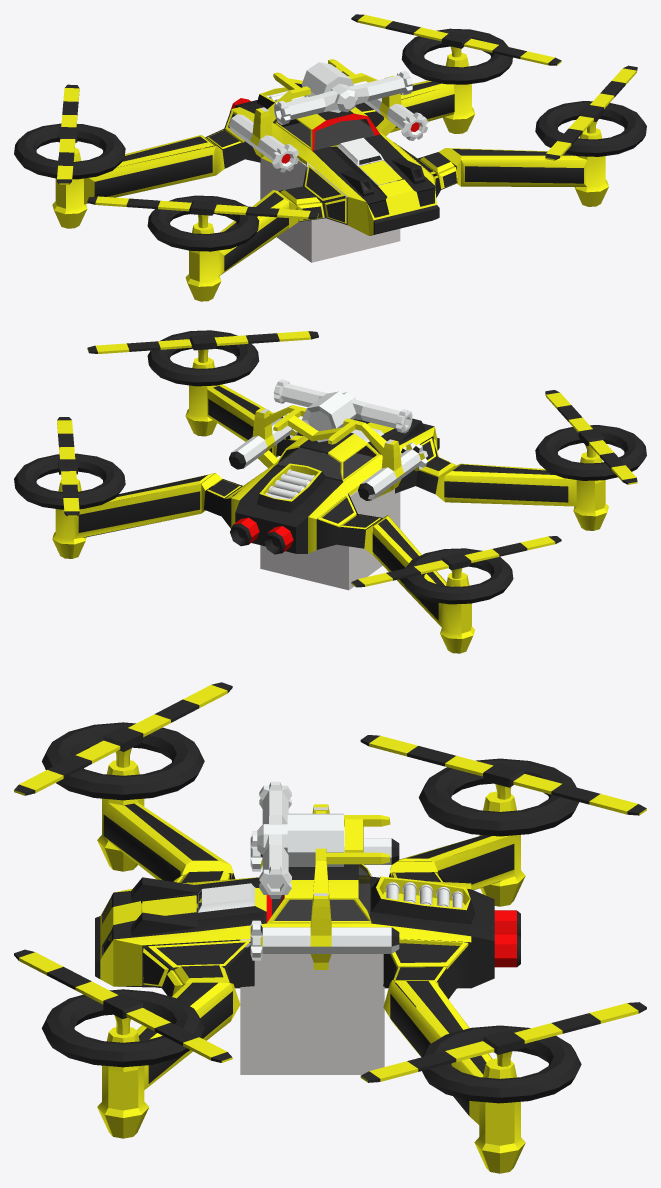
Rendered from drone-transformed.glb.
3 renders of one model, top to bottom at view 1: azimuth 30°, elevation 25°; view 2: azimuth 150°, elevation 25°; view 3: azimuth 270°, elevation 25°, orthographic. The views are drawn at different scales.
Visible parts, largest first — view 1: drone_costum, Cube; view 2: drone_costum, Cube; view 3: drone_costum, Cube.
Boxes of the visible parts, x1,y1,x2,y2 form: drone_costum: (14,14,646,301); Cube: (260,120,400,262); drone_costum: (14,330,646,653); Cube: (260,448,400,590); drone_costum: (14,682,646,1173); Cube: (240,884,384,1074).
Size of the model in its own units: 12.4 by 3.51 by 8.76.
Materials: 4 (4 with a texture image).
